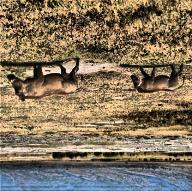boar: (2, 53, 86, 116), (121, 55, 185, 101)
